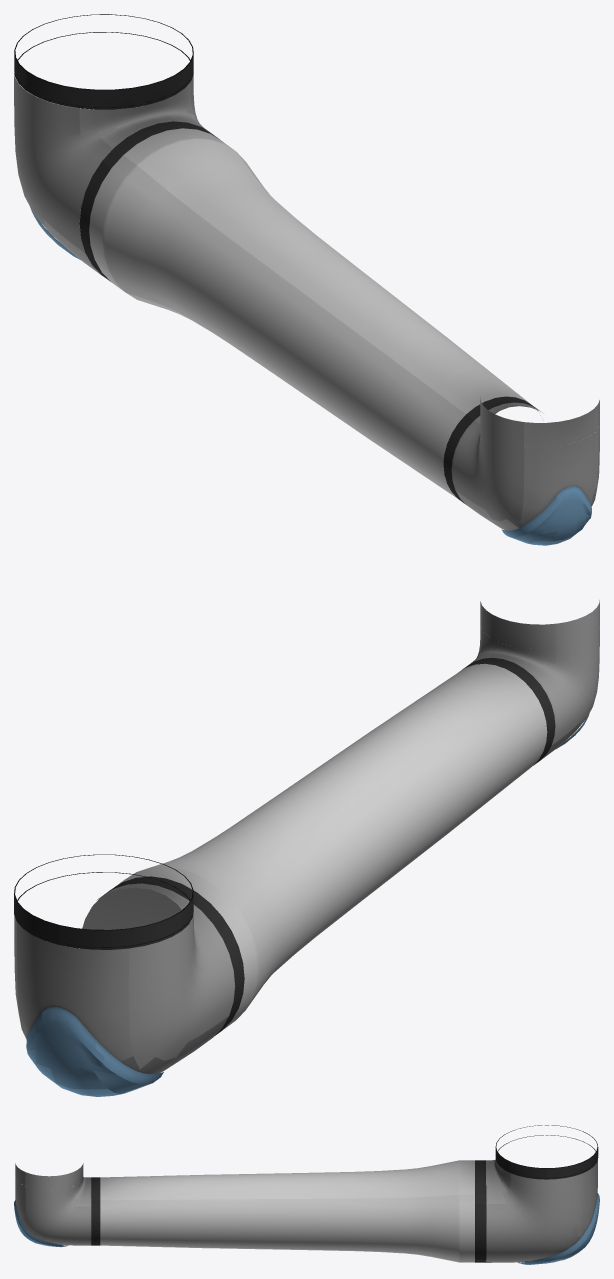
Rendered from forearm_link.glb.
The picture shows the model from 3 angles, top to bottom: view 1: azimuth 30°, elevation 25°; view 2: azimuth 150°, elevation 25°; view 3: azimuth 270°, elevation 25°; orthographic projection. The views are drawn at different scales.
Visible parts, largest first — view 1: elbow-mesh_009, elbow-mesh_007, elbow-mesh_001, elbow-mesh_008; view 2: elbow-mesh_009, elbow-mesh_007, elbow-mesh_001, elbow-mesh_008; view 3: elbow-mesh_009, elbow-mesh_007, elbow-mesh_001, elbow-mesh_008.
Part boxes in pixels (x1,y1,x2,y2): elbow-mesh_009: (89,128,542,498); elbow-mesh_007: (14,71,599,530); elbow-mesh_001: (14,14,537,504); elbow-mesh_008: (30,207,591,545); elbow-mesh_009: (114,663,547,1029); elbow-mesh_007: (14,600,599,1074); elbow-mesh_001: (14,658,555,1035); elbow-mesh_008: (26,714,589,1096); elbow-mesh_009: (100,1160,474,1262); elbow-mesh_007: (15,1159,597,1262); elbow-mesh_001: (91,1125,598,1262); elbow-mesh_008: (14,1193,599,1264).
Bounding box in the file's own units: 0.1505 × 0.1834 × 0.8583.
1 material, 1 textured.
